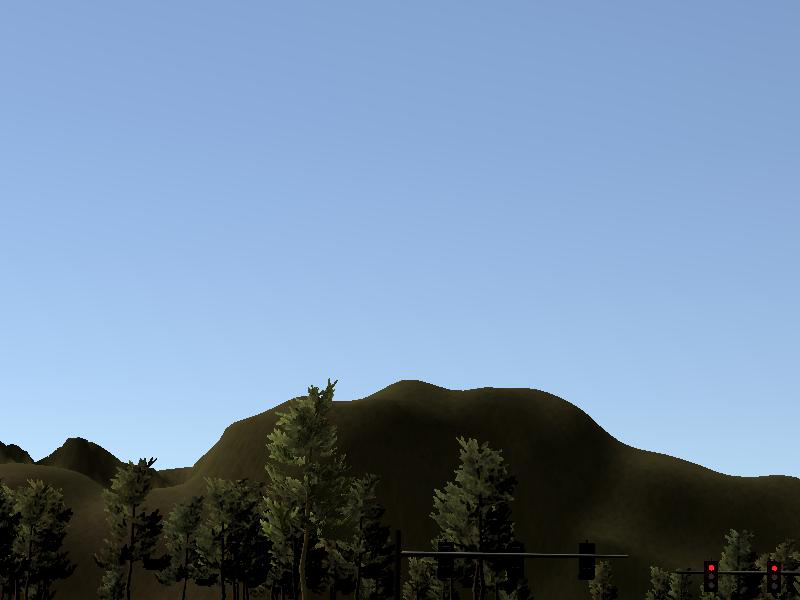red: (706, 560, 718, 592), (768, 561, 780, 591)
